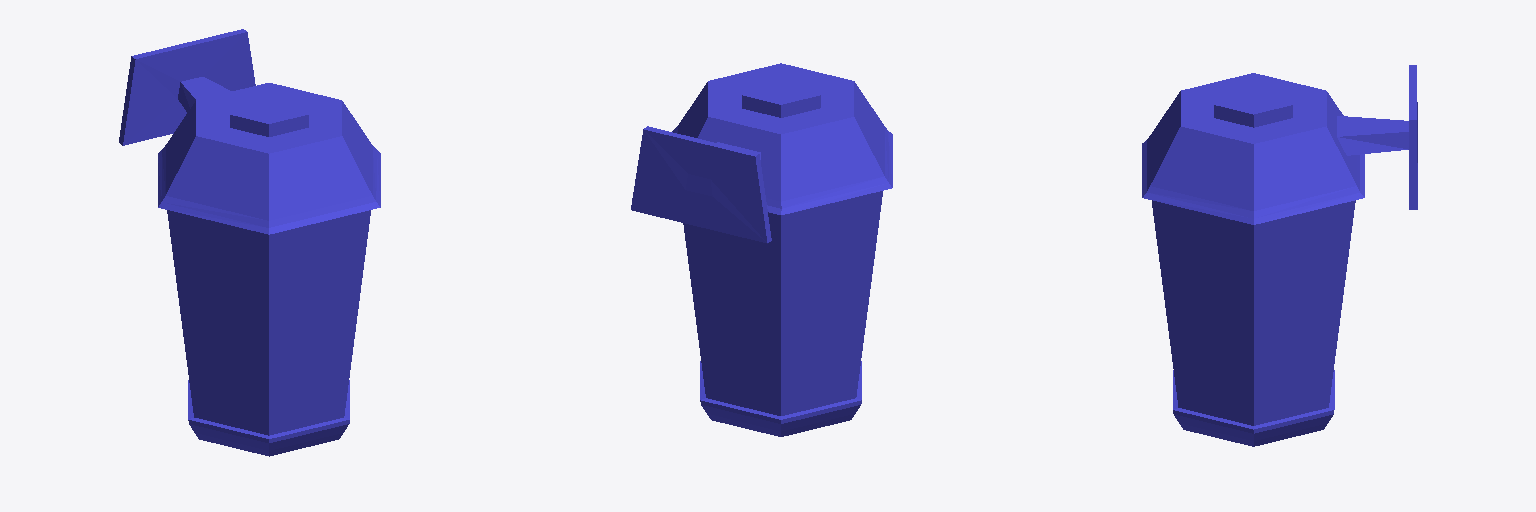
The model's file is Lampara.obj.
The picture shows the model from 3 angles: view 1: azimuth 30°, elevation 25°; view 2: azimuth 150°, elevation 25°; view 3: azimuth 270°, elevation 25°; orthographic projection.
Visible parts, largest first — view 1: Lampara; view 2: Lampara; view 3: Lampara.
Part boxes in pixels (bbox=[...]): Lampara: bbox=[119, 29, 380, 456]; Lampara: bbox=[631, 63, 892, 436]; Lampara: bbox=[1142, 65, 1417, 446].
Size of the model in its own units: 16.23 by 22.72 by 17.38.